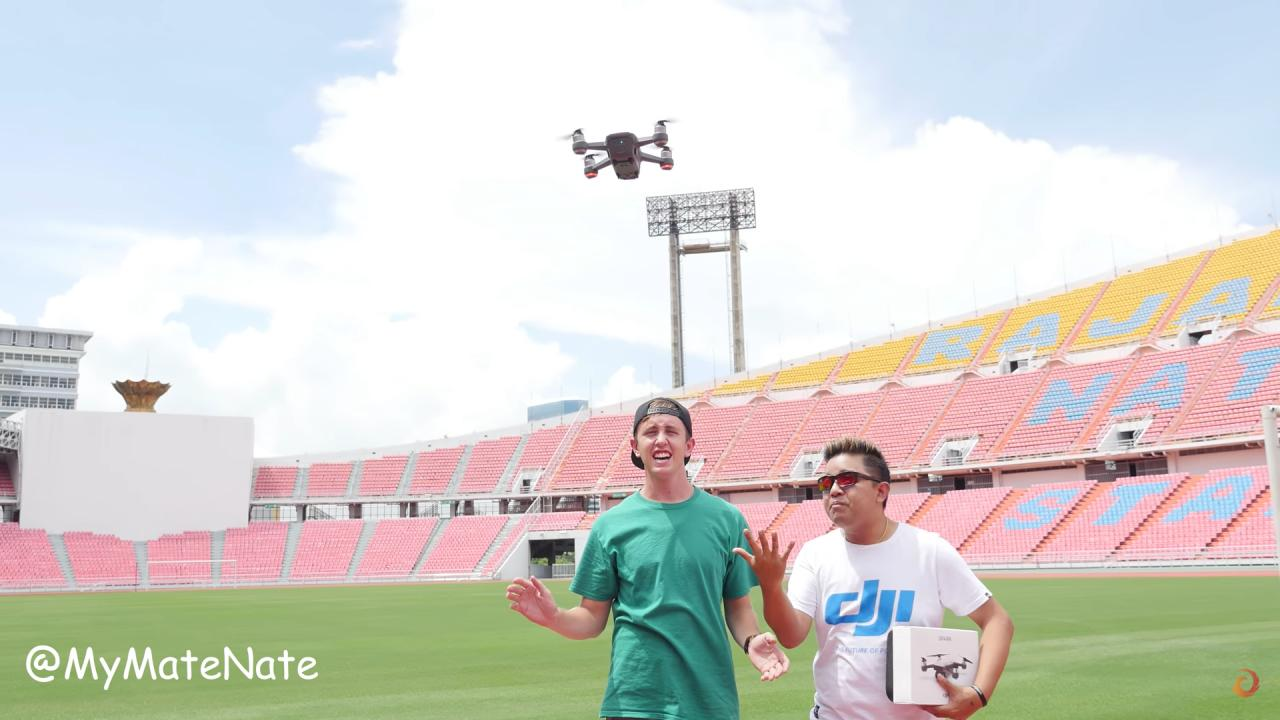Drone: (542, 102, 698, 194)
